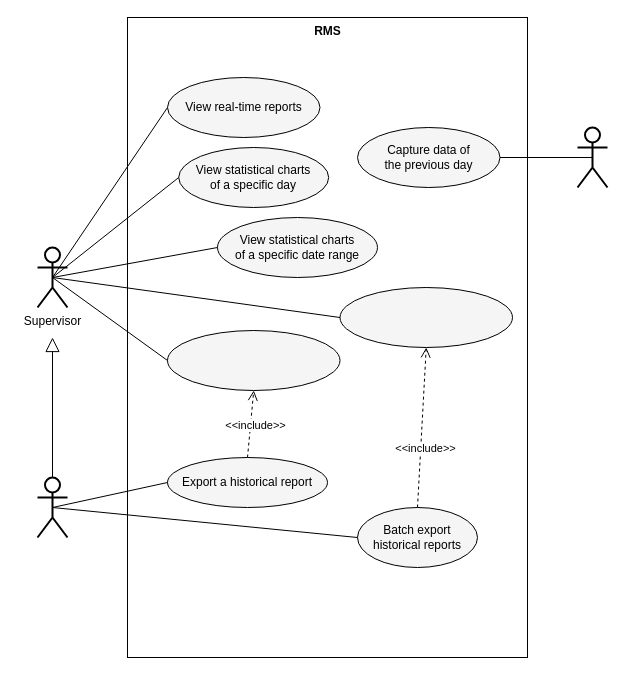
The diagram is 643 pixels wide and 675 high, and some of its shapes have lost their labels. The centre of each missing label's shape, as x and y in pixels:
"Administrator" belongs at point (52, 507).
"Search historical reports" belongs at point (425, 317).
"Timed Event" belongs at point (592, 157).
"View historical reports" belongs at point (253, 360).
